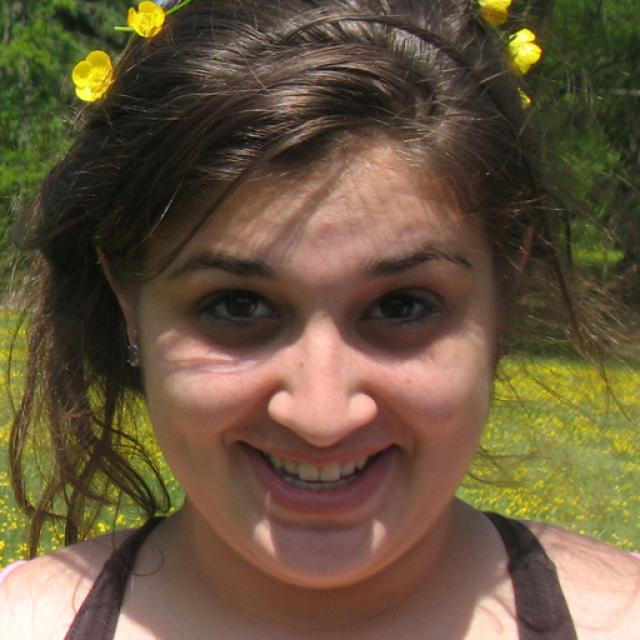Acne: (315, 305, 330, 326), (320, 217, 337, 231)
Dark Circle: (354, 316, 441, 350), (201, 312, 283, 348)
